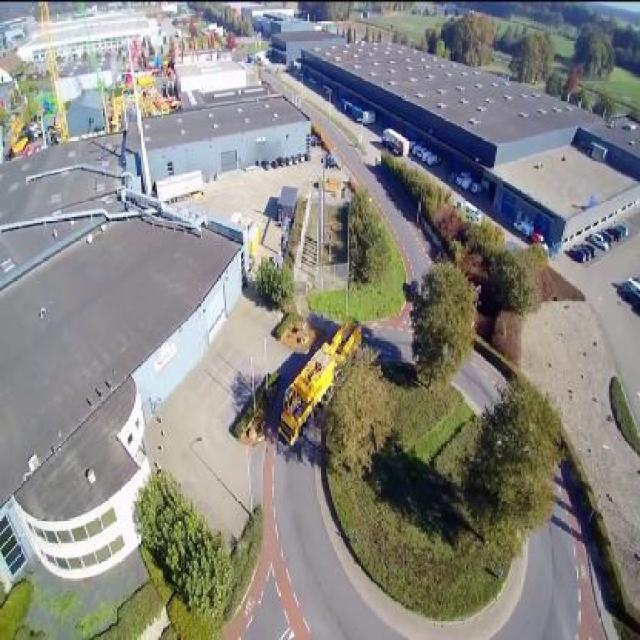Mobile Crane: (276, 315, 361, 451)
